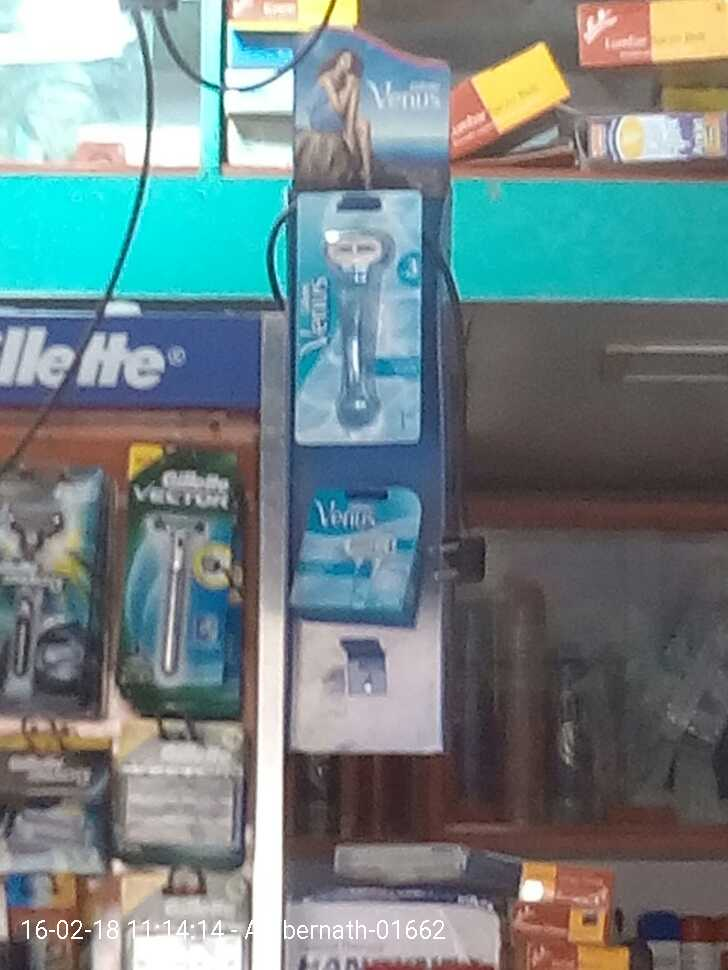beauty: (289, 182, 426, 444), (116, 444, 242, 697), (5, 469, 98, 709), (286, 484, 422, 622), (4, 734, 114, 879)
